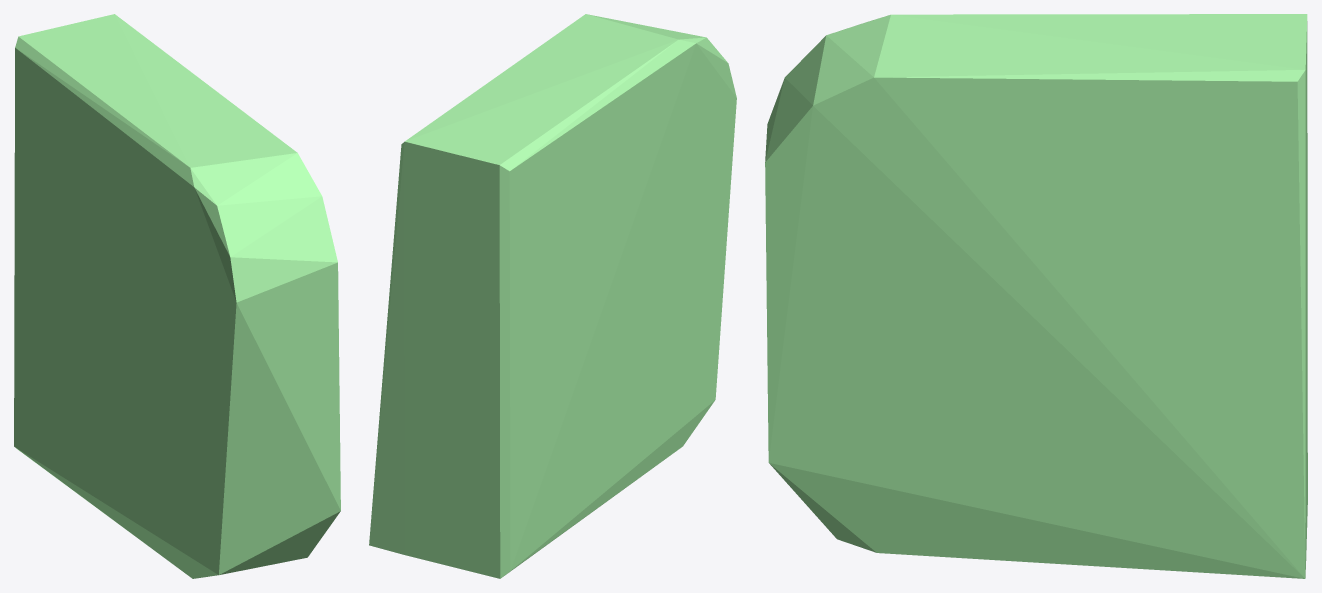
File: exported_panda_rightFinger_coll_1.dae
3 views of the same model, side by side, from view 1: azimuth 30°, elevation 25°; view 2: azimuth 150°, elevation 25°; view 3: azimuth 270°, elevation 25° (orthographic). The views are drawn at different scales.
Visible parts, largest first — view 1: node; view 2: node; view 3: node.
Boxes of the visible parts, left/top/right/bottom form: node: left=14, top=14, right=340, bottom=578; node: left=369, top=14, right=736, bottom=578; node: left=765, top=14, right=1307, bottom=578.
Bounding box in the file's own units: 0.00649 × 0.0181 × 0.0182.
